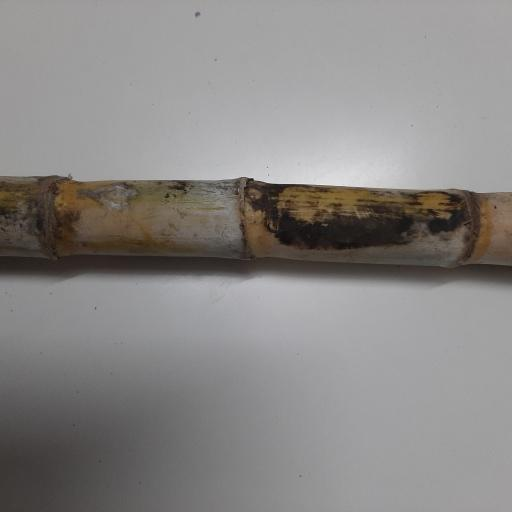Bud: (245, 185, 262, 200)
